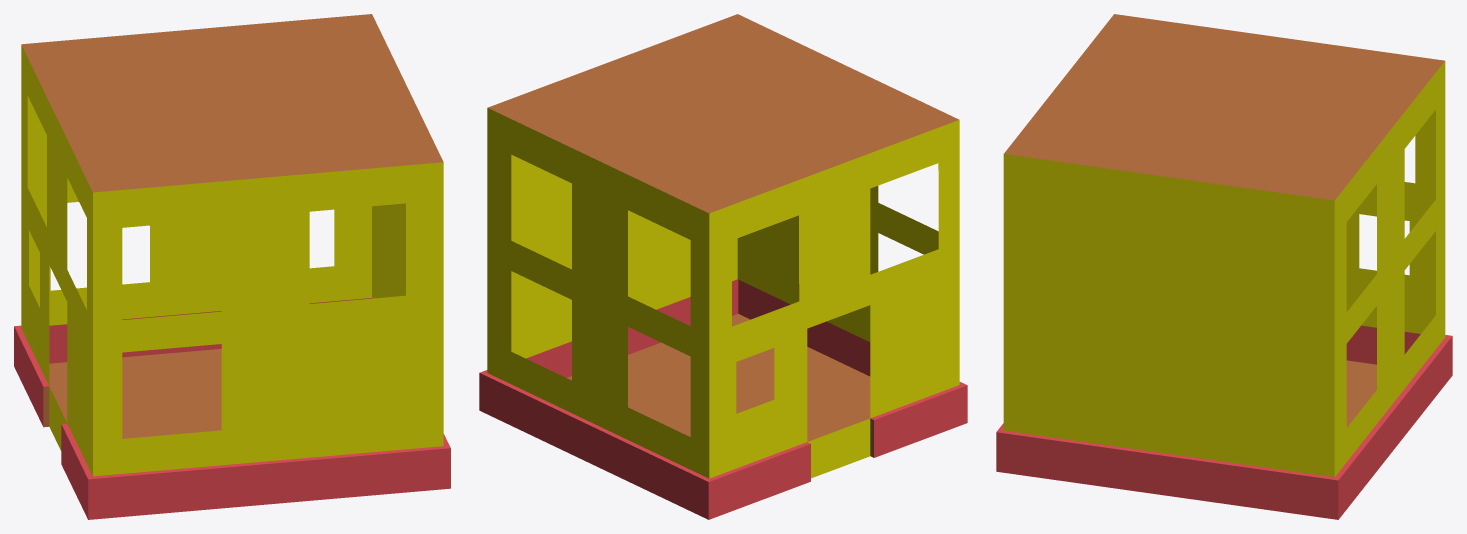
The model's file is tembok rumah.fbx.
The picture shows the model from 3 angles, left to right: view 1: azimuth 30°, elevation 25°; view 2: azimuth 150°, elevation 25°; view 3: azimuth 270°, elevation 25°; orthographic projection. The views are drawn at different scales.
Visible parts, largest first — view 1: house.002; view 2: house.002; view 3: house.002.
Part boxes in pixels (bbox=[...]): house.002: bbox=[14, 14, 450, 519]; house.002: bbox=[479, 14, 967, 519]; house.002: bbox=[996, 14, 1452, 519].
Size of the model in its own units: 110 by 84.44 by 110.
